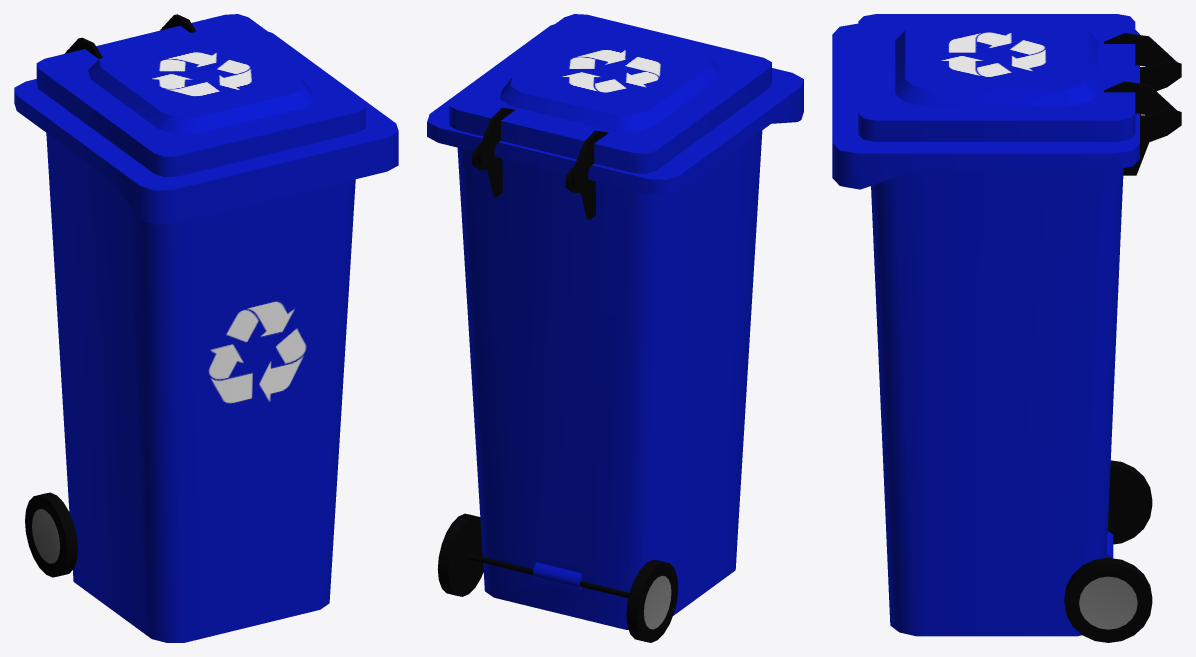
Rendered from recycle.glb.
3 views of the same model, side by side, from view 1: azimuth 30°, elevation 25°; view 2: azimuth 150°, elevation 25°; view 3: azimuth 270°, elevation 25° (orthographic). The views are drawn at different scales.
Visible parts, largest first — view 1: Trashbin, TrashbinLid, TrashbinWheels; view 2: Trashbin, TrashbinLid, TrashbinWheels; view 3: Trashbin, TrashbinLid, TrashbinWheels.
Part boxes in pixels (bbox=[...]): Trashbin: bbox=[14, 27, 398, 642]; TrashbinLid: bbox=[36, 14, 365, 177]; TrashbinWheels: bbox=[25, 492, 77, 577]; Trashbin: bbox=[427, 24, 803, 629]; TrashbinLid: bbox=[449, 14, 771, 188]; TrashbinWheels: bbox=[437, 513, 678, 642]; Trashbin: bbox=[832, 23, 1181, 636]; TrashbinLid: bbox=[858, 14, 1176, 141]; TrashbinWheels: bbox=[1064, 460, 1152, 642].
Size of the model in its own units: 2.38 by 4.57 by 2.7.
Materials: 4 (1 with a texture image).
